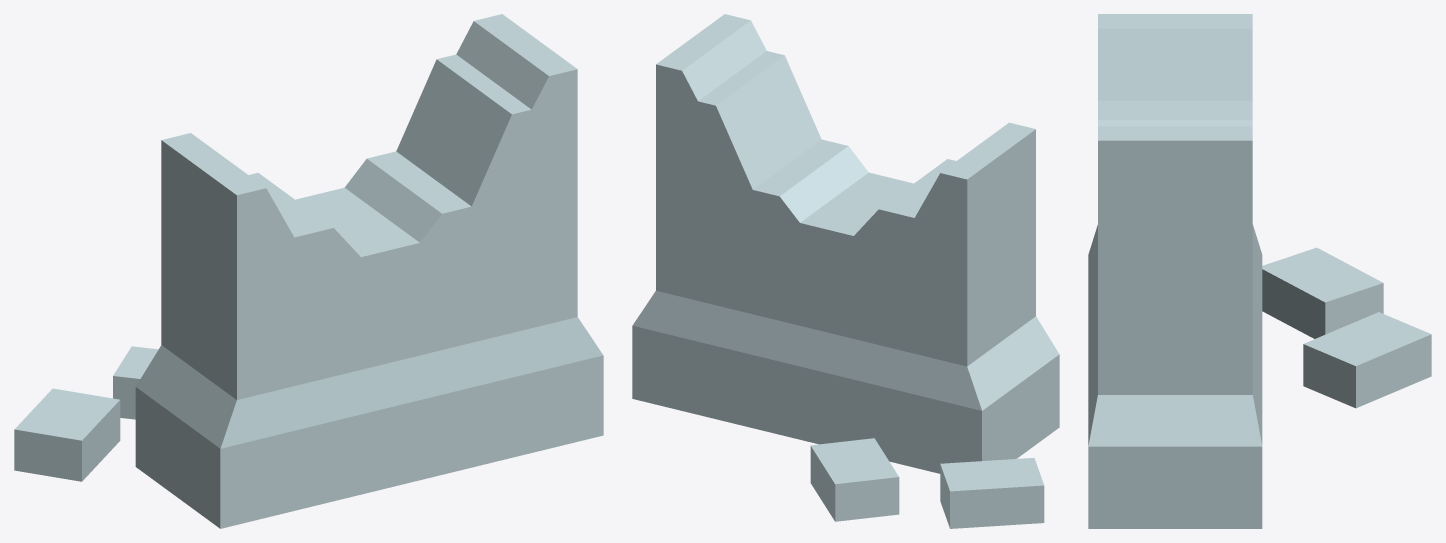
Rendered from gravestoneBroken.glb.
3 renders of one model, left to right at view 1: azimuth 30°, elevation 25°; view 2: azimuth 150°, elevation 25°; view 3: azimuth 270°, elevation 25°, orthographic. The views are drawn at different scales.
Parts seen in each view (by area): view 1: gravestoneBroken; view 2: gravestoneBroken; view 3: gravestoneBroken.
Boxes of the visible parts, x1,y1,x2,y2 form: gravestoneBroken: (14,14,603,528); gravestoneBroken: (632,14,1059,528); gravestoneBroken: (1088,14,1431,528).
Size of the model in its own units: 0.4864 by 0.3581 by 0.2949.
